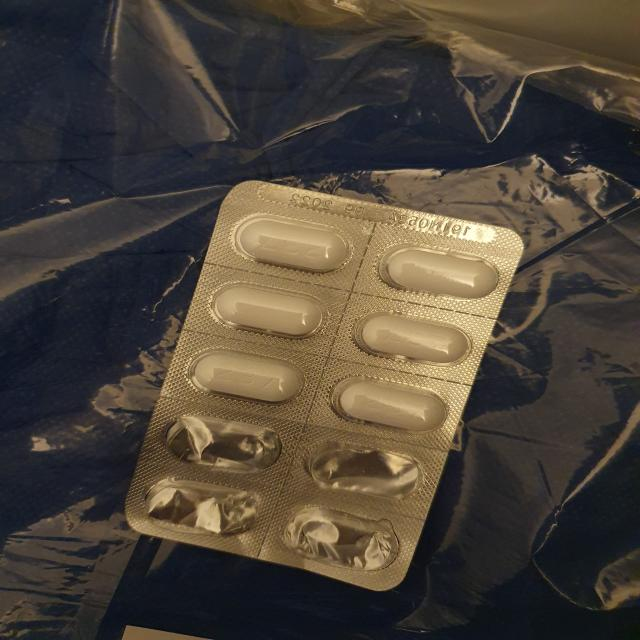Empty: (267, 498, 417, 583), (148, 408, 307, 483), (127, 476, 290, 548), (301, 432, 444, 508)
Pill: (220, 202, 377, 284), (360, 235, 516, 314), (190, 267, 332, 352), (320, 363, 466, 440), (176, 343, 320, 417), (341, 305, 489, 376)
